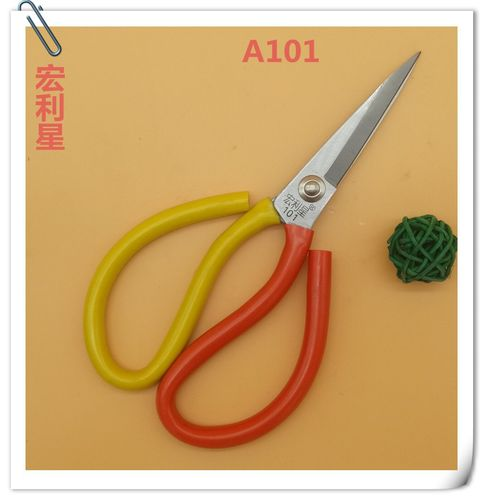scissor: (82, 51, 423, 447)
